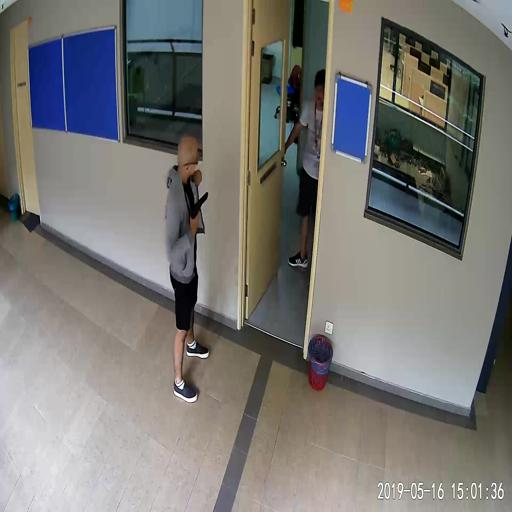pistol: (191, 191, 209, 225)
